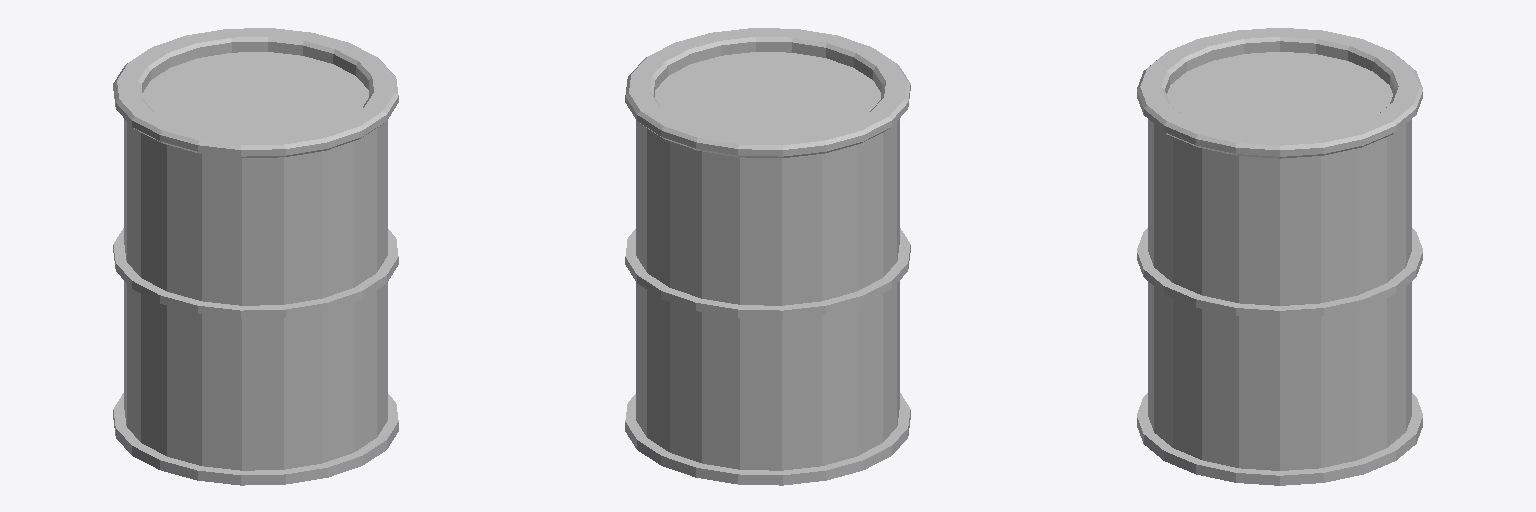
The model's file is barrelrust.obj.
3 renders of one model, left to right at view 1: azimuth 30°, elevation 25°; view 2: azimuth 150°, elevation 25°; view 3: azimuth 270°, elevation 25°, orthographic.
Parts seen in each view (by area): view 1: pCylinder1; view 2: pCylinder1; view 3: pCylinder1.
Part boxes in pixels (left/top/right/bottom): pCylinder1: left=113, top=28, right=398, bottom=485; pCylinder1: left=625, top=28, right=910, bottom=485; pCylinder1: left=1137, top=28, right=1422, bottom=485.
Bounding box in the file's own units: 2.17 × 2.82 × 2.17.